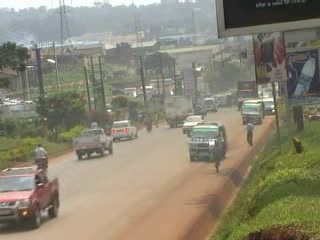Car: (108, 118, 139, 140), (179, 112, 203, 137)
Motorcycle: (31, 144, 52, 173), (140, 112, 153, 133)
